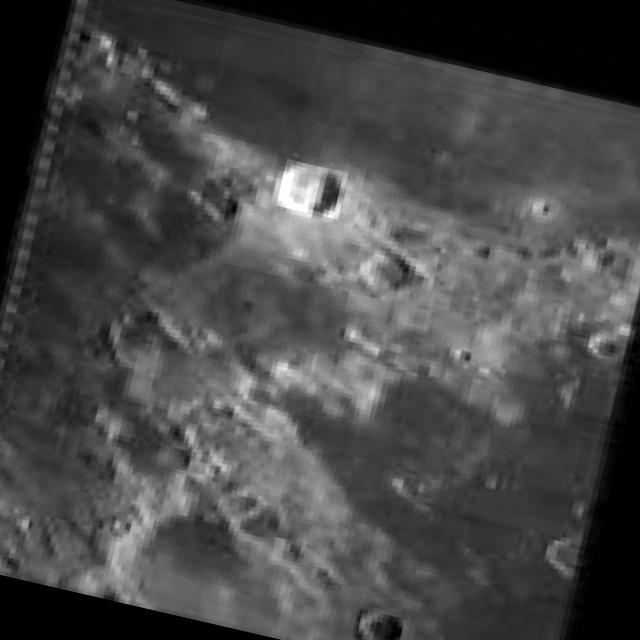crater: (276, 158, 348, 220), (353, 608, 403, 640)
